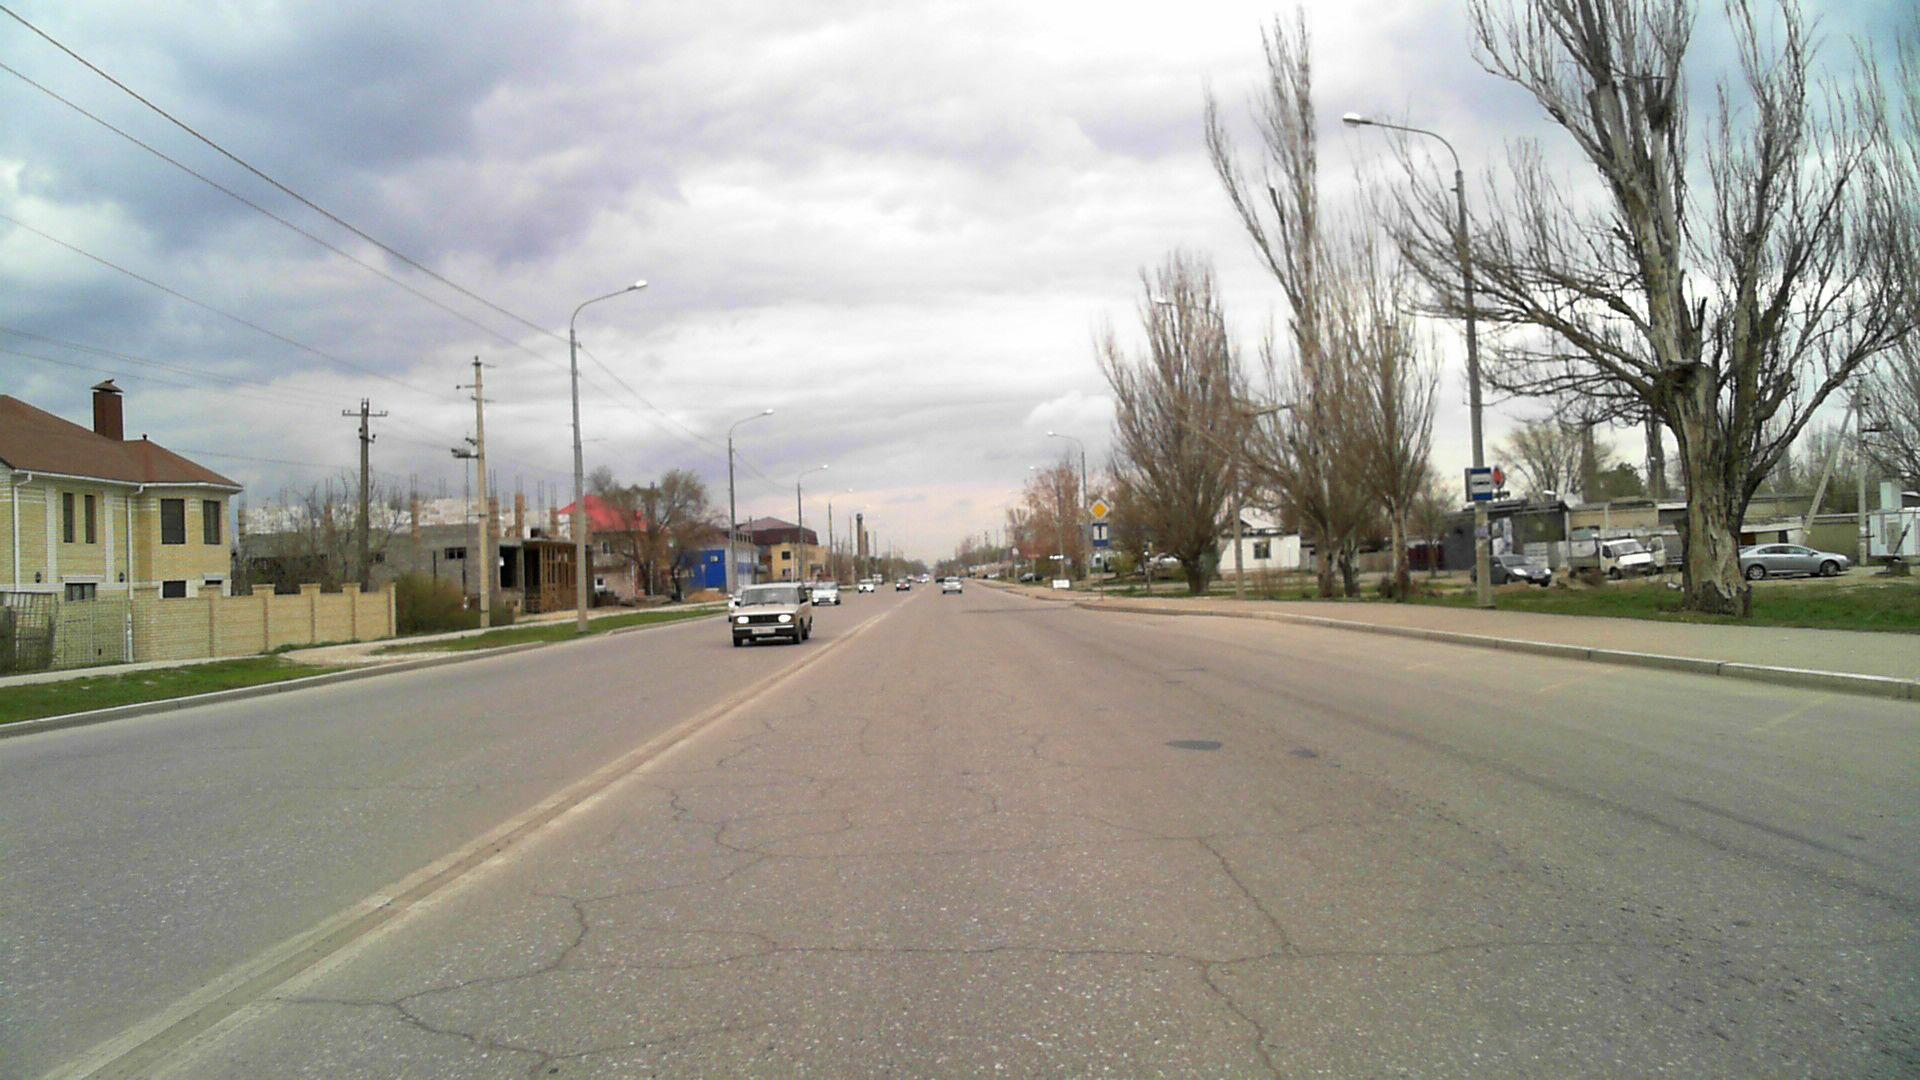2_1: (1088, 497, 1110, 520)
5_16: (1465, 467, 1493, 500)
7_4: (1092, 520, 1109, 545)
